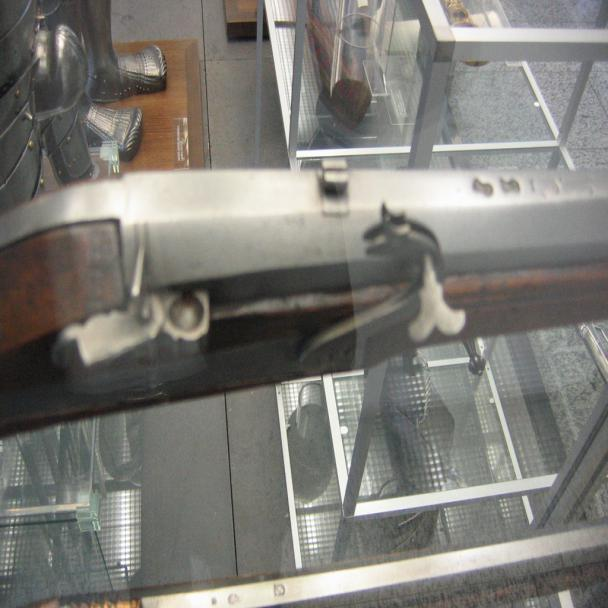Hand: (0, 149, 607, 422)
